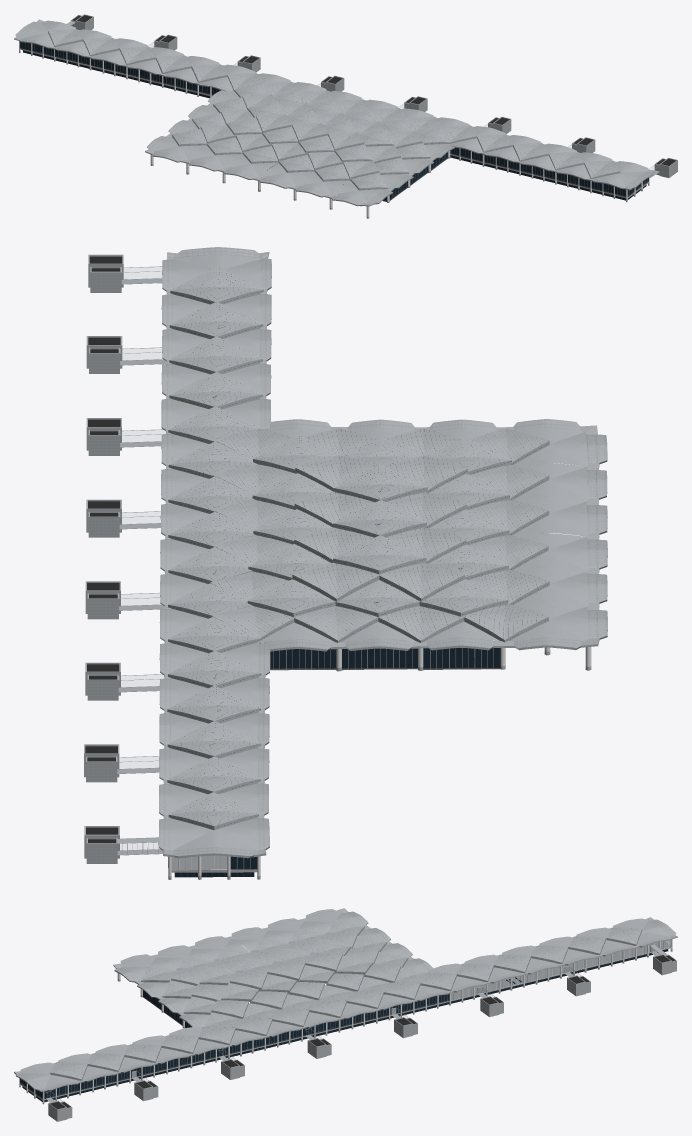
Rendered from OERKTerminal5.gltf.
3 renders of one model, top to bottom at view 1: azimuth 30°, elevation 25°; view 2: azimuth 150°, elevation 25°; view 3: azimuth 270°, elevation 25°, orthographic. The views are drawn at different scales.
Parts seen in each view (by area): view 1: t5_alu_roof, t5_alu, t5_glass, t5_pillar, t5_glassbot; view 2: t5_alu_roof, t5_alu, t5_glass, t5_pillar; view 3: t5_alu_roof, t5_alu, t5_glass, t5_pillar, t5_glassbot, t5_glassclr, jetbridge_building_big.005, jetbridge_building_big.008, jetbridge_building_big.007, jetbridge_building_big.003.
Boxes of the visible parts, bbox=[...] form: t5_alu_roof: bbox=[20, 22, 647, 202]; t5_alu: bbox=[14, 19, 654, 206]; t5_glass: bbox=[20, 41, 648, 201]; t5_pillar: bbox=[19, 41, 649, 218]; t5_glassbot: bbox=[23, 50, 646, 200]; t5_alu_roof: bbox=[168, 254, 589, 850]; t5_alu: bbox=[159, 247, 607, 872]; t5_glass: bbox=[230, 648, 500, 869]; t5_pillar: bbox=[168, 533, 591, 879]; t5_alu_roof: bbox=[22, 912, 670, 1088]; t5_alu: bbox=[14, 908, 677, 1100]; t5_glass: bbox=[20, 990, 449, 1099]; t5_pillar: bbox=[19, 939, 672, 1104]; t5_glassbot: bbox=[22, 949, 668, 1102]; t5_glassclr: bbox=[451, 940, 670, 999]; jetbridge_building_big.005: bbox=[307, 1038, 326, 1058]; jetbridge_building_big.008: bbox=[48, 1101, 67, 1121]; jetbridge_building_big.007: bbox=[134, 1080, 153, 1101]; jetbridge_building_big.003: bbox=[480, 996, 499, 1016].
Bounding box in the file's own units: 397 × 23.45 × 562.
